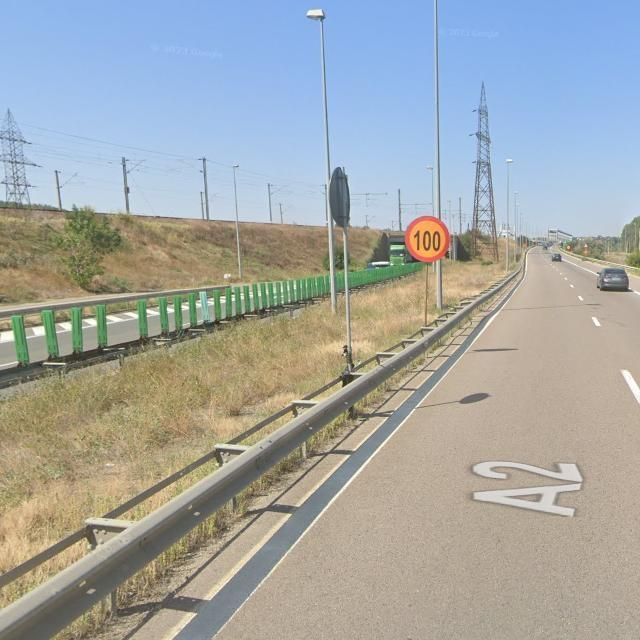forb_speed_over_100: (405, 216, 450, 262)
